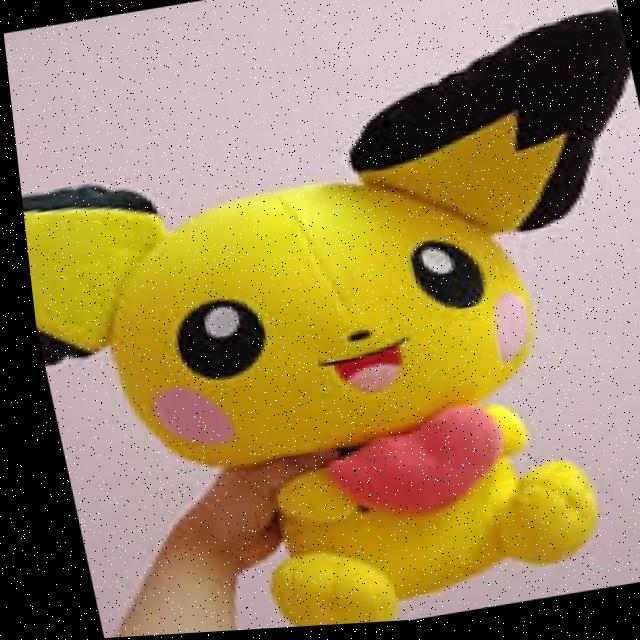pichu: (3, 10, 640, 640)
